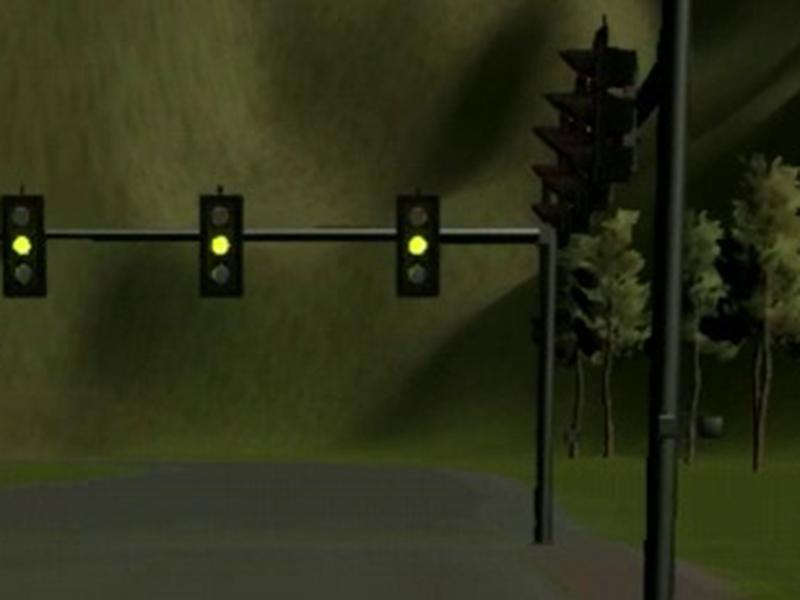Yellow: (199, 194, 244, 297), (1, 195, 46, 297), (395, 194, 439, 298)
